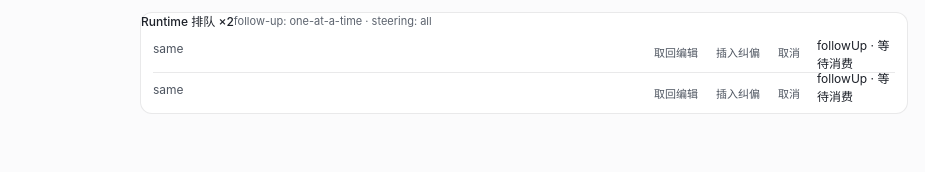
Test case: sends the selected identity for duplicate text and never restores consumed messages
Click the 2nd button "取回编辑".
click(676, 93)  # box [645, 81, 707, 105]
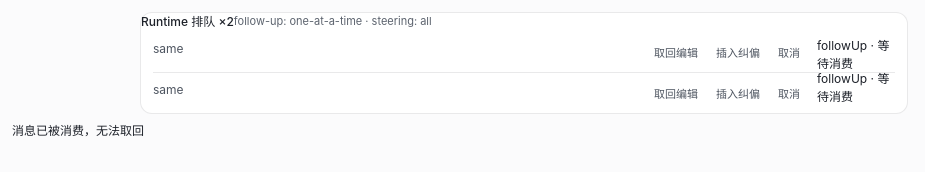
Check: the text "消息已被消费，无法取回" is shown, box [12, 123, 144, 138]
